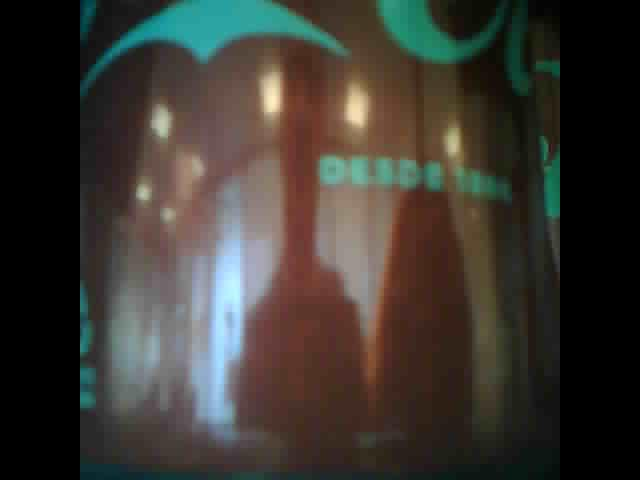coca cola: (81, 1, 559, 476)
